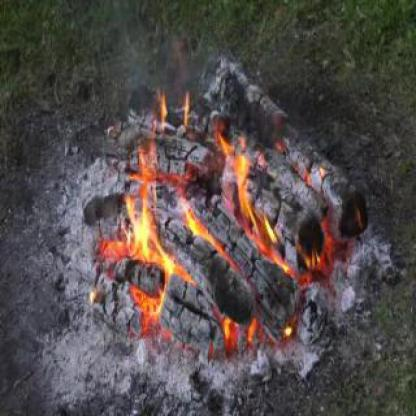Fire: (86, 84, 296, 370)
